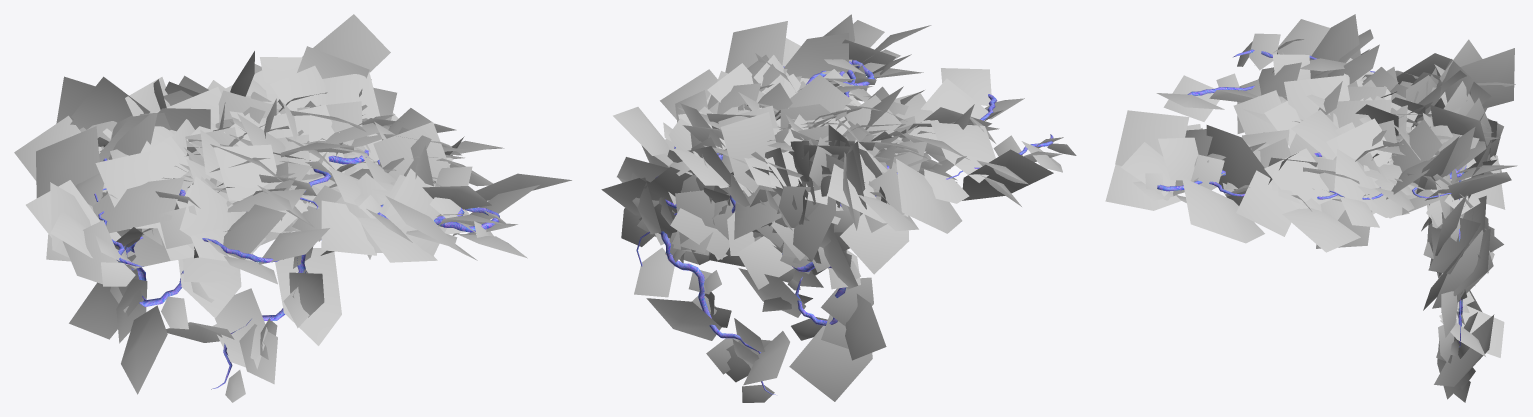
The model's file is IvyPlant03.fbx.
3 renders of one model, left to right at view 1: azimuth 30°, elevation 25°; view 2: azimuth 150°, elevation 25°; view 3: azimuth 270°, elevation 25°, orthographic. The views are drawn at different scales.
Visible parts, largest first — view 1: IvyPlant03_LOD0; view 2: IvyPlant03_LOD0; view 3: IvyPlant03_LOD0.
Part boxes in pixels (box(x1,y1,x2,y2)): IvyPlant03_LOD0: box(14, 14, 571, 402); IvyPlant03_LOD0: box(601, 14, 1076, 402); IvyPlant03_LOD0: box(1105, 14, 1517, 402).
Size of what is drawn, in the model's own units: 589 by 420 by 516.
